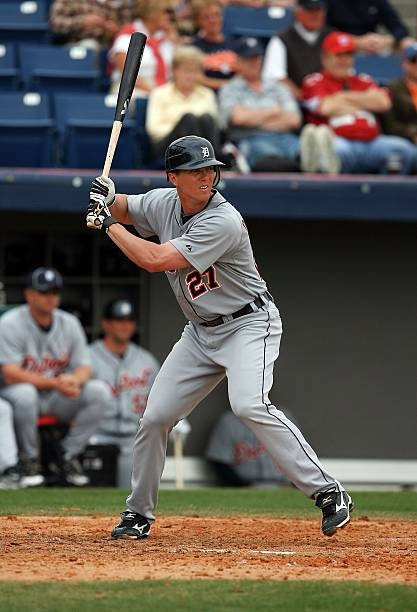bita: (88, 31, 151, 221)
